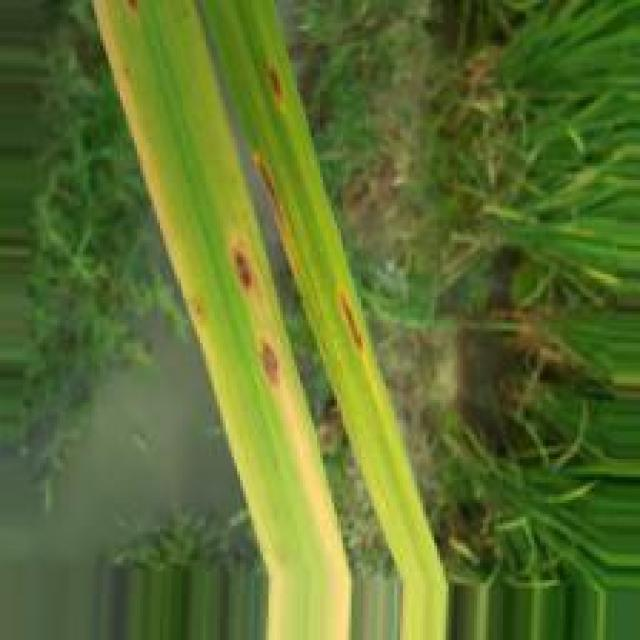Brown_Spot: (253, 150, 292, 246), (335, 281, 367, 365), (230, 235, 264, 300), (262, 60, 290, 113), (258, 344, 287, 391), (189, 293, 210, 329), (124, 0, 144, 21)
